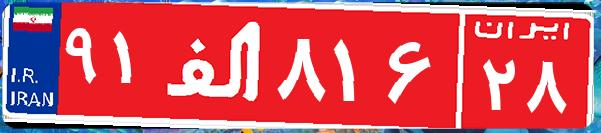1: (330, 28, 385, 110), (110, 28, 158, 105)
2: (475, 38, 525, 113)
6: (385, 28, 445, 110)
8: (273, 28, 330, 110), (525, 38, 570, 115)
9: (57, 26, 110, 107)
الف: (158, 15, 273, 115)
